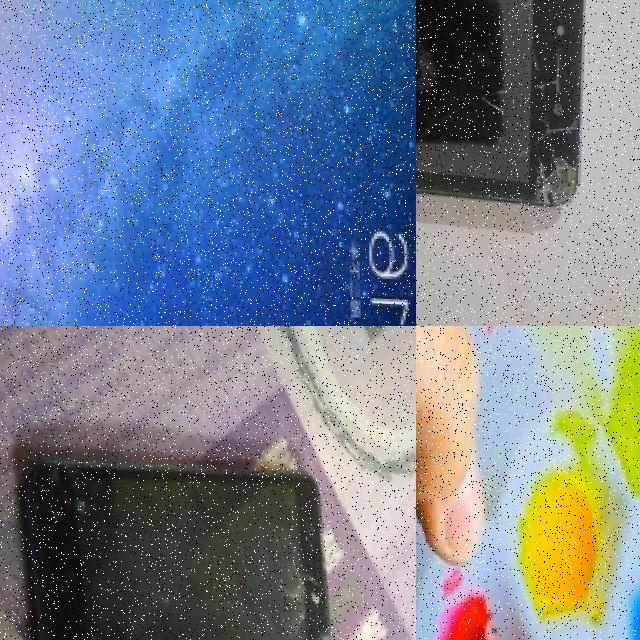screen crack: (479, 64, 606, 220), (272, 528, 335, 640), (33, 463, 98, 537)
